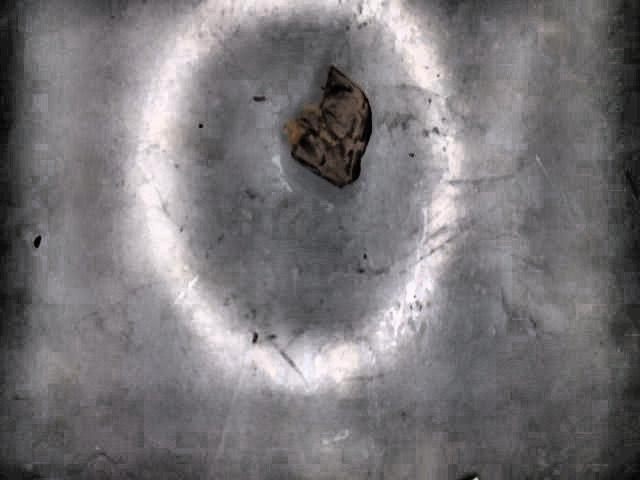Almennt: (281, 61, 377, 192)
